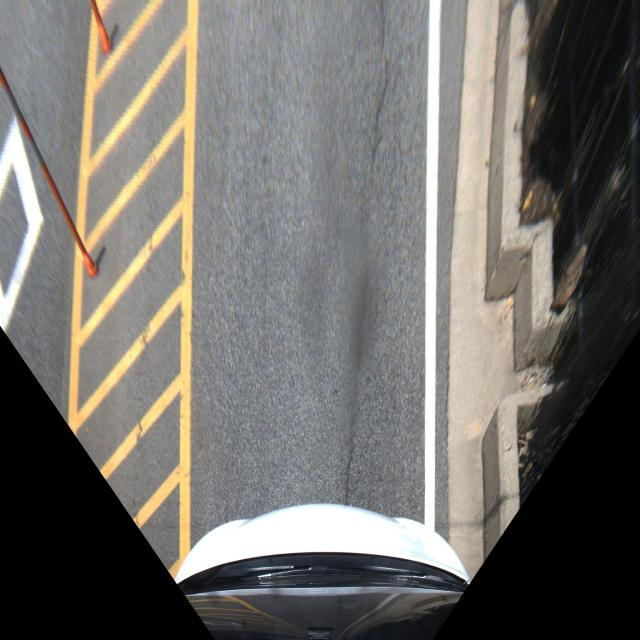diamond: (569, 302, 640, 543)
